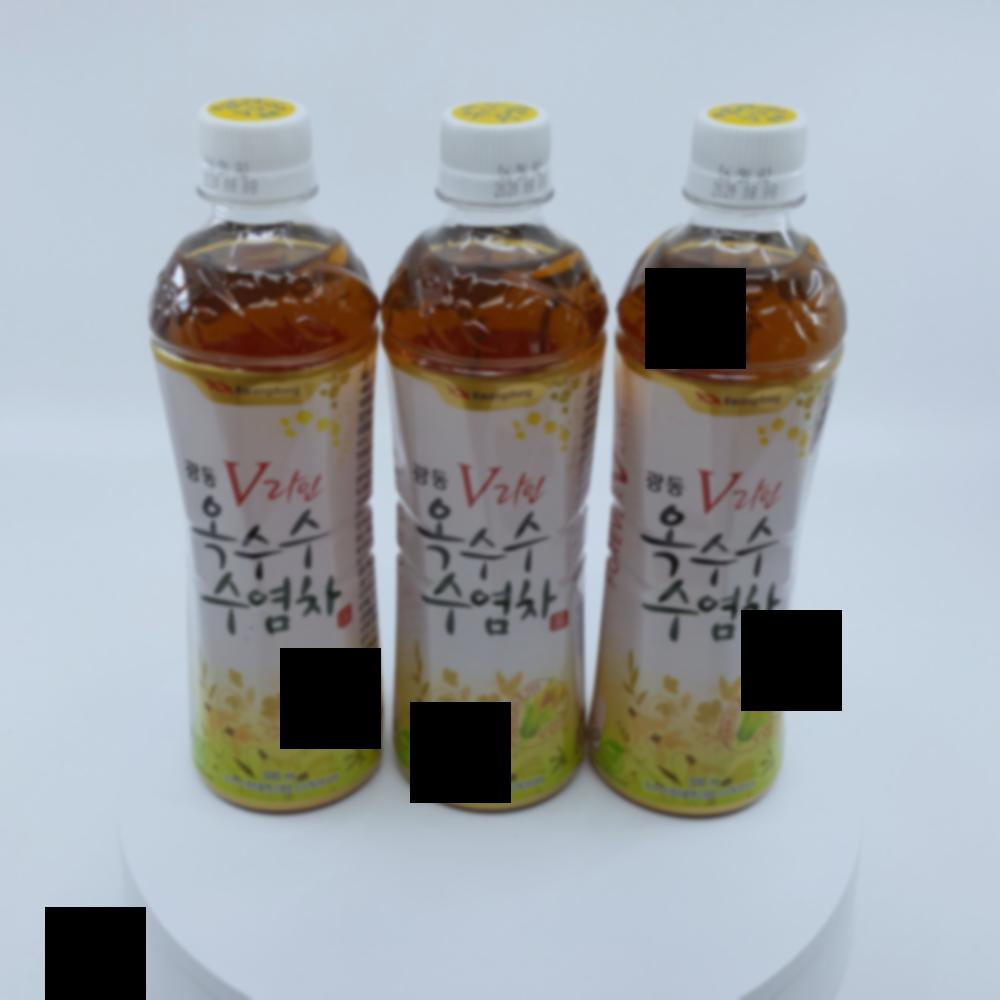oksususuyeomcha: (602, 71, 849, 820), (141, 82, 390, 819), (381, 99, 612, 820)
